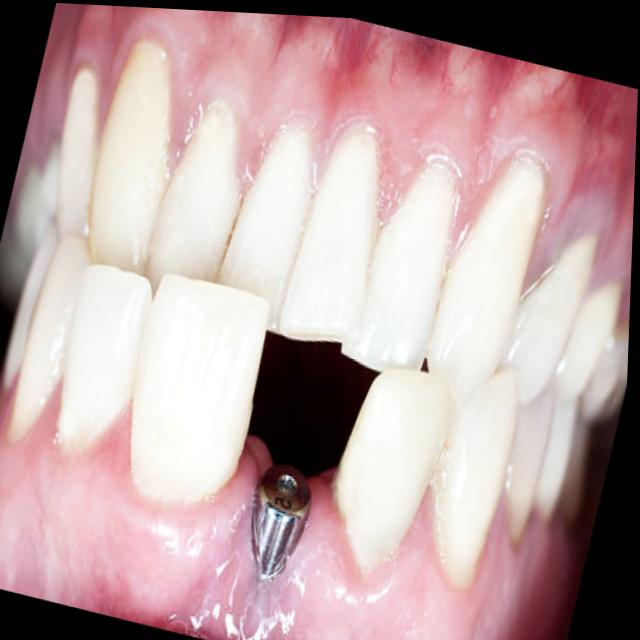hypodontia: (58, 275, 450, 607)
